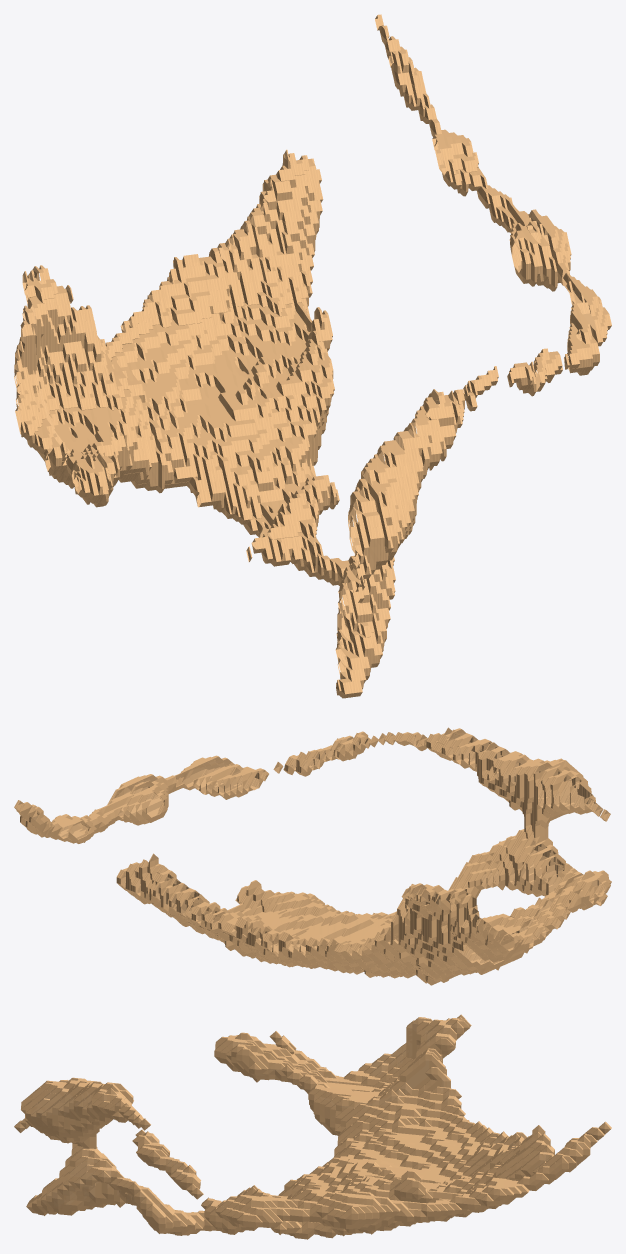
Rendered from SVV_URYVR.gltf.
The picture shows the model from 3 angles, top to bottom: view 1: azimuth 30°, elevation 25°; view 2: azimuth 150°, elevation 25°; view 3: azimuth 270°, elevation 25°; orthographic projection. The views are drawn at different scales.
Parts seen in each view (by area): view 1: URYVR; view 2: URYVR; view 3: URYVR.
Boxes of the visible parts, x1=… form: URYVR: x1=14, y1=14, x2=611, y2=698; URYVR: x1=14, y1=727, x2=611, y2=985; URYVR: x1=14, y1=1014, x2=611, y2=1239.
Size of the model in its own units: 50266 by 26382 by 60137.
